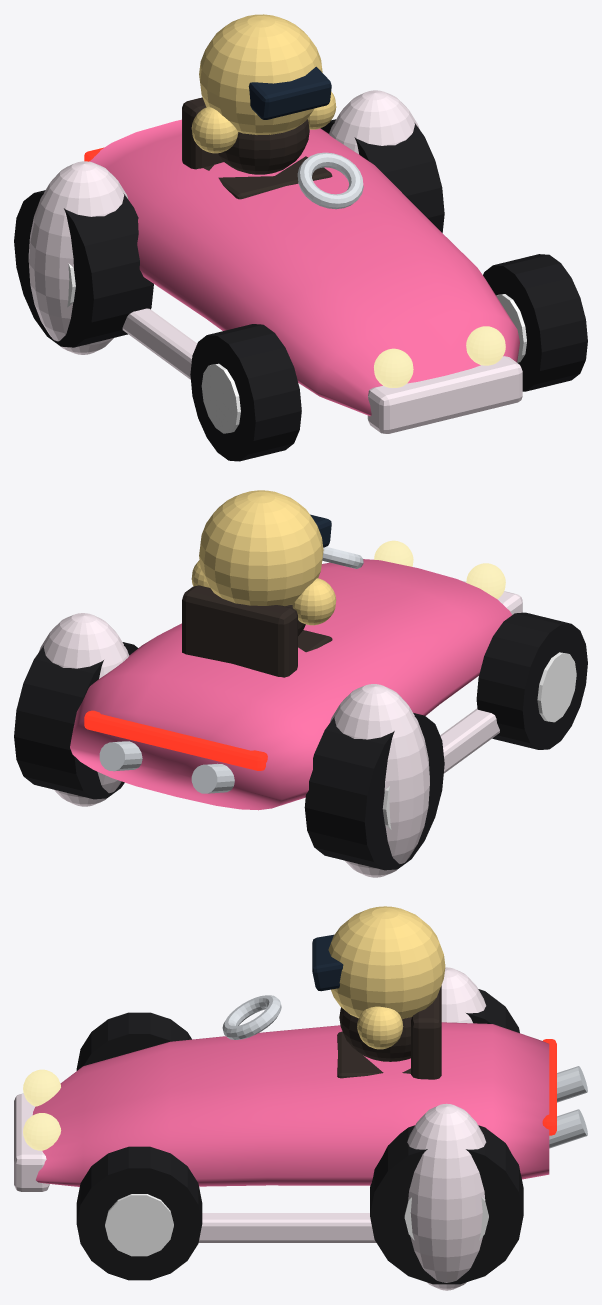
File: kart2.glb
3 renders of one model, top to bottom at view 1: azimuth 30°, elevation 25°; view 2: azimuth 150°, elevation 25°; view 3: azimuth 270°, elevation 25°, orthographic. The views are drawn at different scales.
Visible parts, largest first — view 1: Body, TireRR, TireFR, Head, TireFL, Fender.001, Bumper, TireRL, Fender, Torso, Visor, Skirt.001 (+9 smaller); view 2: Body, TireRR, Head, TireFR, TireRL, Fender.001, SeatBack, Fender, TailBar, HubFR, Skirt.001, ShR (+6 smaller); view 3: Body, Fender, TireFL, TireRL, Head, Skirt, TireFR, HubFL, SeatBack, Bumper, Fender.001, WheelSteer (+10 smaller).
Part boxes in pixels (x1,y1,x2,y2): Body: [89, 119, 519, 415]; TireRR: [14, 190, 153, 347]; TireFR: [190, 324, 301, 461]; Head: [199, 14, 322, 134]; TireFL: [483, 254, 587, 391]; Fender.001: [28, 161, 127, 354]; Bumper: [367, 356, 522, 433]; TireRL: [320, 119, 444, 232]; Fender: [329, 90, 419, 154]; Torso: [217, 119, 309, 174]; Visor: [248, 66, 331, 119]; Skirt.001: [122, 308, 197, 379]; Body: [70, 559, 511, 810]; TireRR: [304, 713, 444, 870]; Head: [199, 490, 323, 606]; TireFR: [476, 612, 587, 749]; TireRL: [14, 642, 138, 799]; Fender.001: [330, 684, 429, 877]; SeatBack: [182, 585, 297, 677]; Fender: [38, 613, 129, 806]; TailBar: [84, 710, 267, 770]; HubFR: [537, 652, 576, 722]; Skirt.001: [440, 708, 499, 773]; ShR: [292, 578, 336, 625]; Body: [32, 1022, 549, 1186]; Fender: [407, 1103, 486, 1290]; TireFL: [76, 1146, 202, 1280]; TireRL: [370, 1125, 523, 1284]; Head: [328, 906, 445, 1019]; Skirt: [198, 1213, 376, 1242]; TireFR: [76, 1012, 191, 1070]; HubFL: [105, 1194, 173, 1256]; SeatBack: [411, 985, 441, 1079]; Bumper: [14, 1093, 49, 1191]; Fender.001: [441, 967, 486, 1023]; WheelSteer: [222, 995, 281, 1039].
Size of the model in its own units: 1.69 by 1.32 by 2.24.
